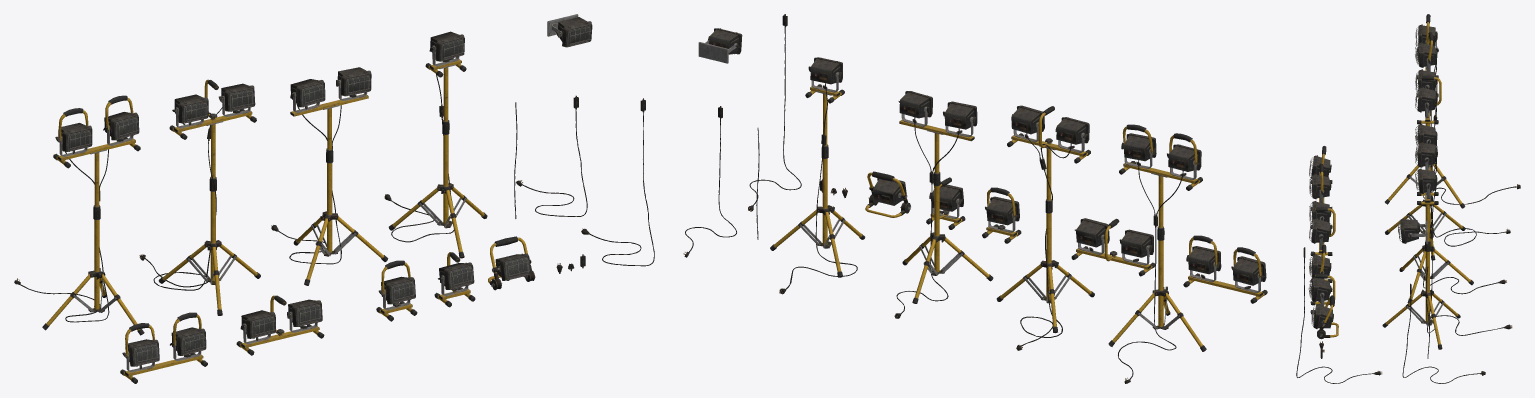
File: stage_lights.glb
The picture shows the model from 3 angles, left to right: view 1: azimuth 30°, elevation 25°; view 2: azimuth 150°, elevation 25°; view 3: azimuth 270°, elevation 25°; orthographic projection. The views are drawn at different scales.
Visible parts, largest first — view 1: flood_lights_cable_a_geo, flood_lights_floor_double_a_light_01; view 2: flood_lights_cable_a_geo; view 3: flood_lights_cable_a_geo, flood_lights_floor_double_a_light_01.
Boxes of the visible parts, left/top/right/bottom form: flood_lights_cable_a_geo: left=14, top=14, right=654, bottom=383; flood_lights_floor_double_a_light_01: left=67, top=26, right=590, bottom=364; flood_lights_cable_a_geo: left=683, top=14, right=1267, bottom=383; flood_lights_cable_a_geo: left=1296, top=14, right=1520, bottom=383; flood_lights_floor_double_a_light_01: left=1311, top=47, right=1419, bottom=324.
Size of the model in its own units: 4.6 by 1.81 by 2.11.
Materials: 2 (2 with a texture image).
